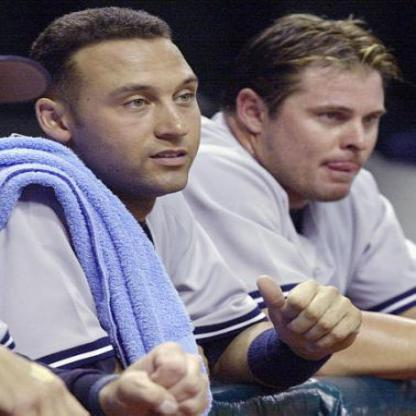face: (63, 13, 217, 203), (264, 25, 401, 203)
